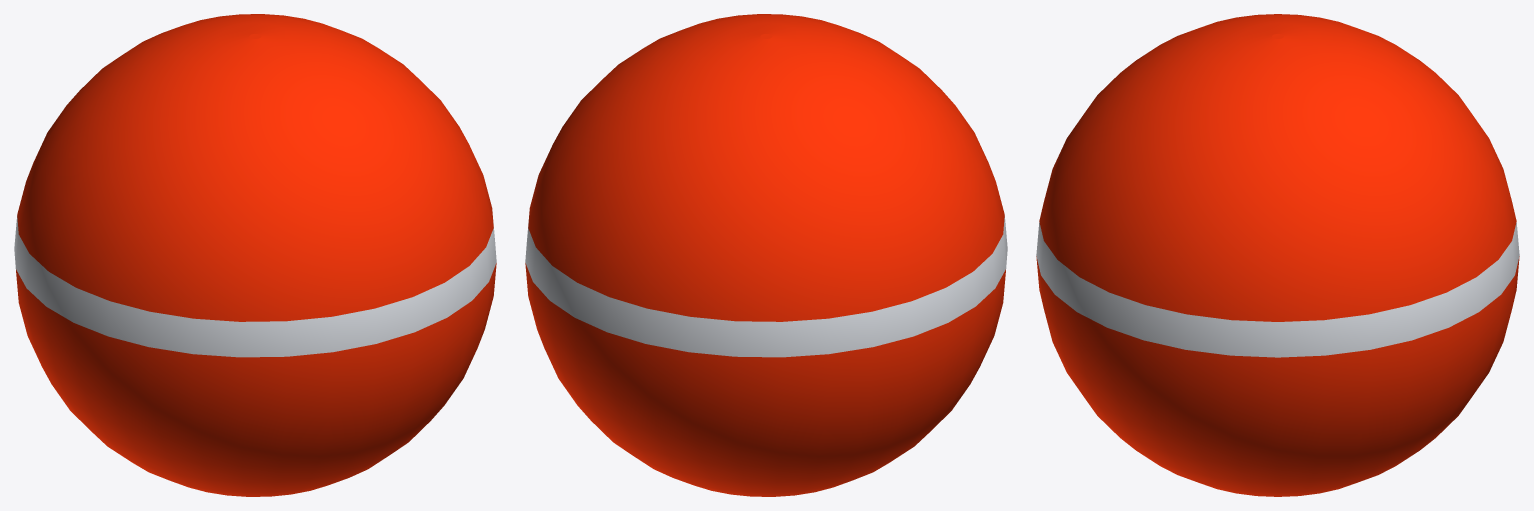
The model's file is cozy_tt_ball_orange_3star.obj.
3 renders of one model, left to right at view 1: azimuth 30°, elevation 25°; view 2: azimuth 150°, elevation 25°; view 3: azimuth 270°, elevation 25°, orthographic.
Parts seen in each view (by area): view 1: cozy_tt_ball_orange_3star_Mesh; view 2: cozy_tt_ball_orange_3star_Mesh; view 3: cozy_tt_ball_orange_3star_Mesh.
Boxes of the visible parts, <box> form: cozy_tt_ball_orange_3star_Mesh: <box>14,14,496,496</box>; cozy_tt_ball_orange_3star_Mesh: <box>525,14,1007,496</box>; cozy_tt_ball_orange_3star_Mesh: <box>1036,14,1519,496</box>.
Bounding box in the file's own units: 0.04 × 0.04 × 0.04.
